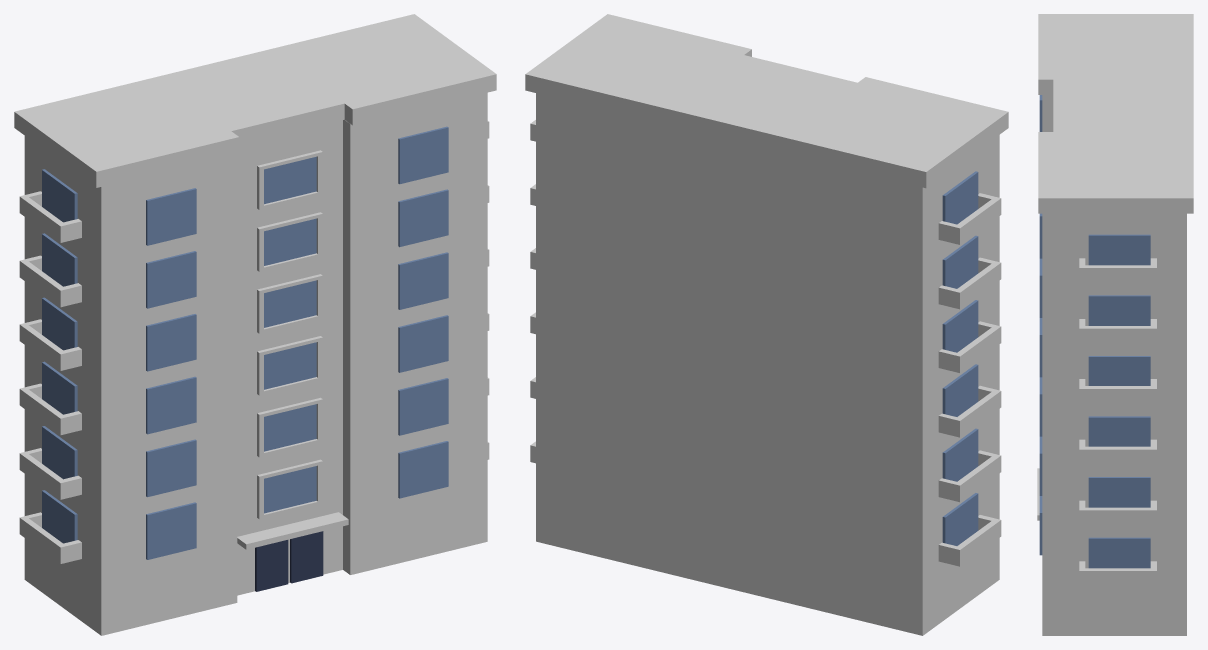
The model's file is Building.fbx.
3 renders of one model, left to right at view 1: azimuth 30°, elevation 25°; view 2: azimuth 150°, elevation 25°; view 3: azimuth 270°, elevation 25°, orthographic. The views are drawn at different scales.
Visible parts, largest first — view 1: Building.002, Building.001, Building; view 2: Building.002, Building.001, Building; view 3: Building.002, Building.001, Building.
Part boxes in pixels (x1,y1,x2,y2): Building.002: (24, 92, 487, 635); Building.001: (14, 14, 496, 563); Building: (42, 126, 448, 591); Building.002: (536, 93, 999, 635); Building.001: (525, 14, 1008, 566); Building: (942, 171, 978, 545); Building.002: (1042, 95, 1186, 635); Building.001: (1037, 14, 1193, 586); Building: (1039, 95, 1150, 568).
Size of the model in its own units: 2132 by 2220 by 712.
